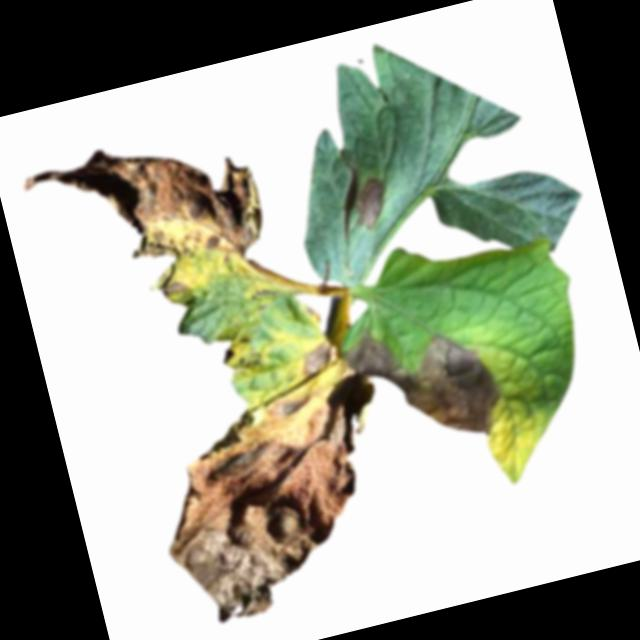Early_blight: (138, 385, 385, 631), (17, 113, 283, 326), (338, 306, 510, 464), (350, 175, 391, 231), (296, 340, 337, 378), (220, 346, 238, 366)
